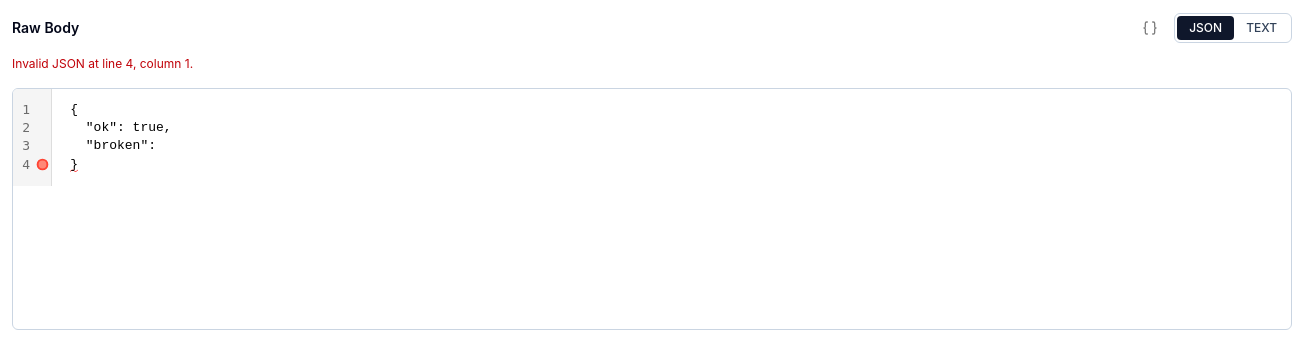
Test case: RawBodyEditor JSON tools › shows location-aware diagnostics and clears them in TEXT mode
Expected: the text "Invalid JSON at line 4, column 1." is shown, [12,56,193,71]
Expected: the button named "Format JSON" is disabled, [1134,12,1166,44]
Click the button "TEXT" at (1262, 28), box [1234,16,1289,40]
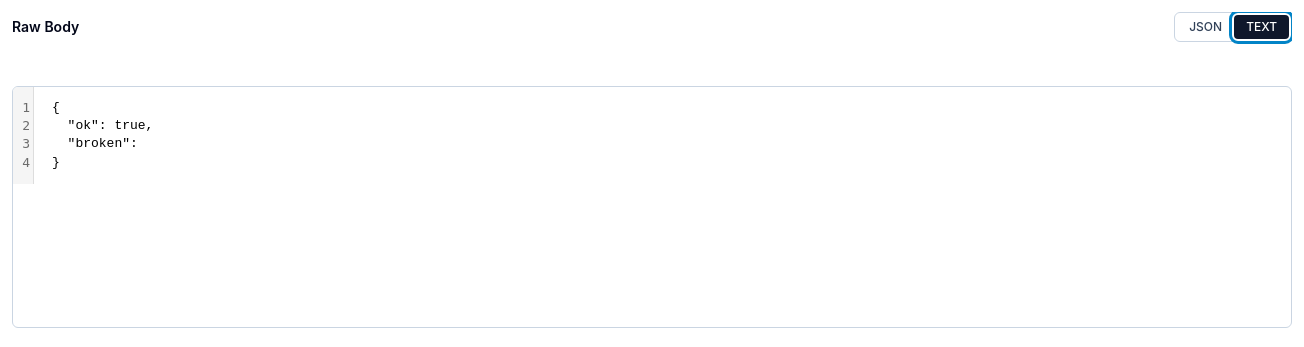
Result: the text "Invalid JSON at line 4, column 1." is gone
